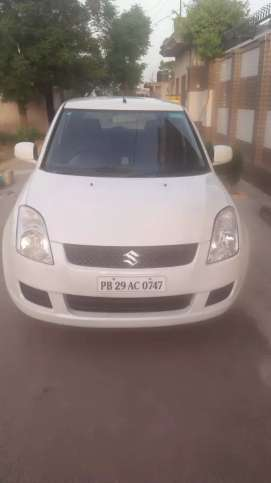license_plate: (98, 276, 168, 296)
